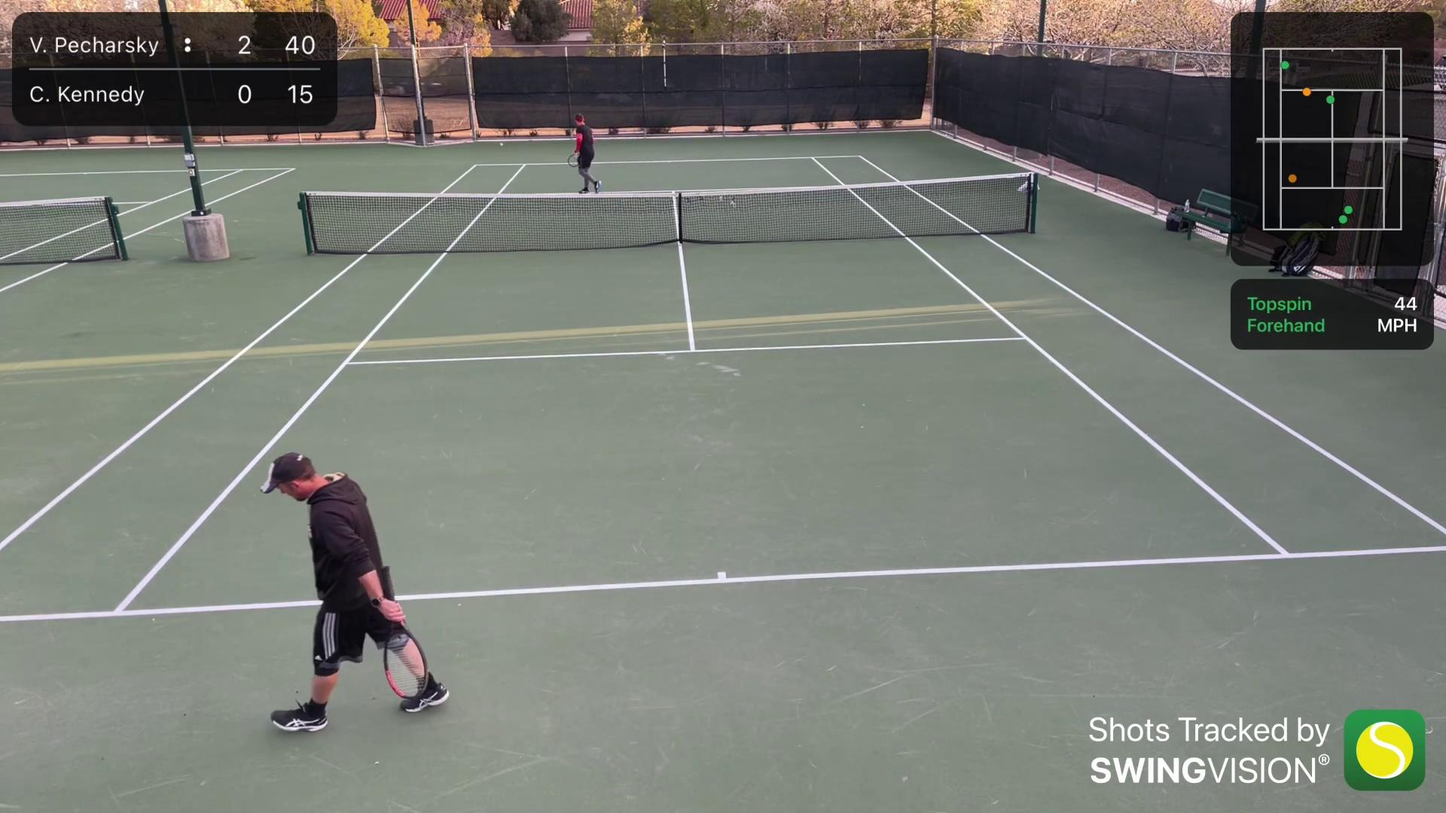ball: (499, 141, 504, 146)
